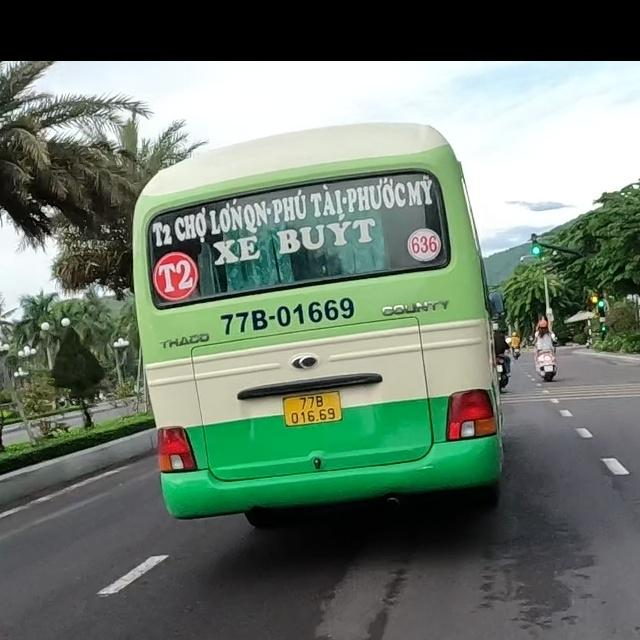license-plate: (283, 391, 343, 428)
